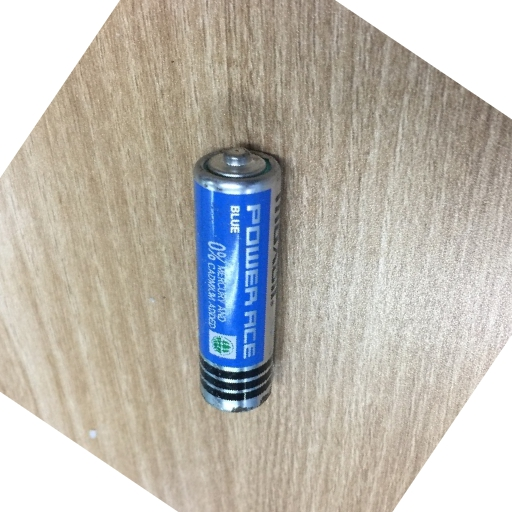Battery_0: (185, 134, 295, 427)
